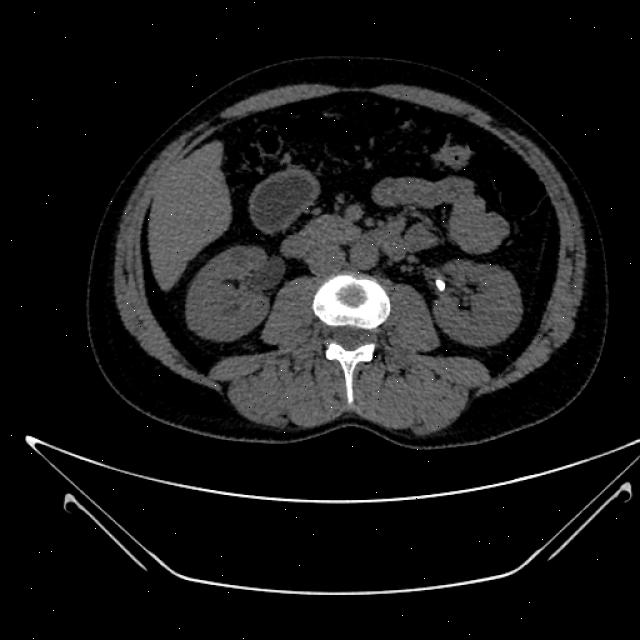kidneystone: (435, 279, 446, 292)
